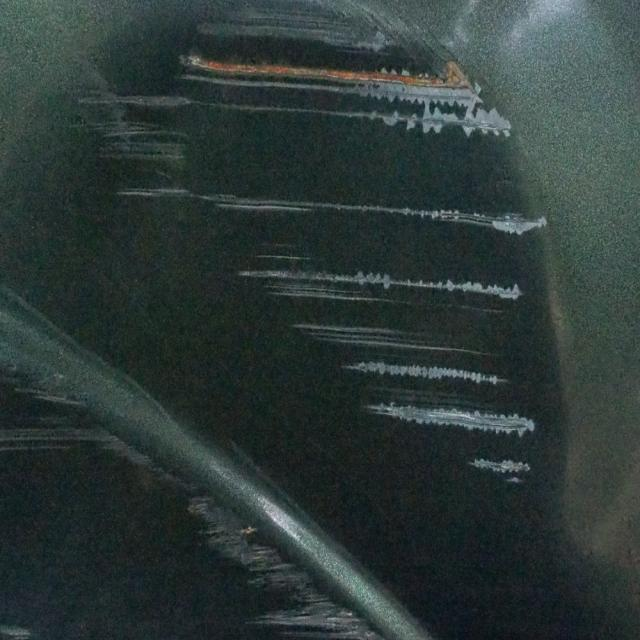scratch: (80, 0, 563, 494), (0, 333, 385, 640)
